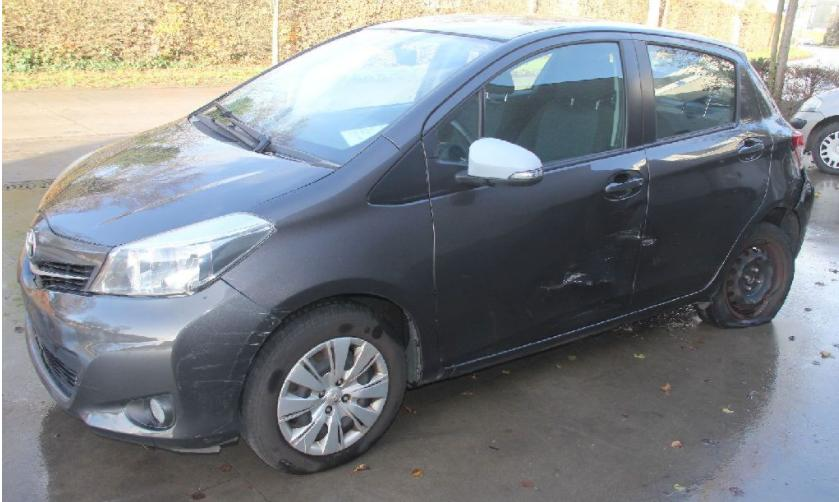Back-bumper: (793, 172, 814, 258)
Back-door: (628, 33, 773, 312)
Back-wheel: (695, 222, 794, 329)
Back-window: (647, 43, 737, 140)
Fender: (219, 136, 443, 384)
Front-bumper: (17, 211, 282, 455)
Front-door: (422, 32, 649, 367)
Front-wheel: (242, 298, 407, 475)
Front-window: (371, 42, 628, 204)
Grille: (30, 260, 94, 294)
Headlight: (87, 210, 275, 298)
Hood: (37, 115, 336, 246)
Mirror: (369, 128, 543, 203)
Quarter-panel: (711, 114, 804, 283)
Rocker-panel: (442, 282, 725, 379)
Roof: (365, 14, 746, 62)
Tail-light: (792, 131, 806, 169)
Windshield: (188, 28, 507, 170)
